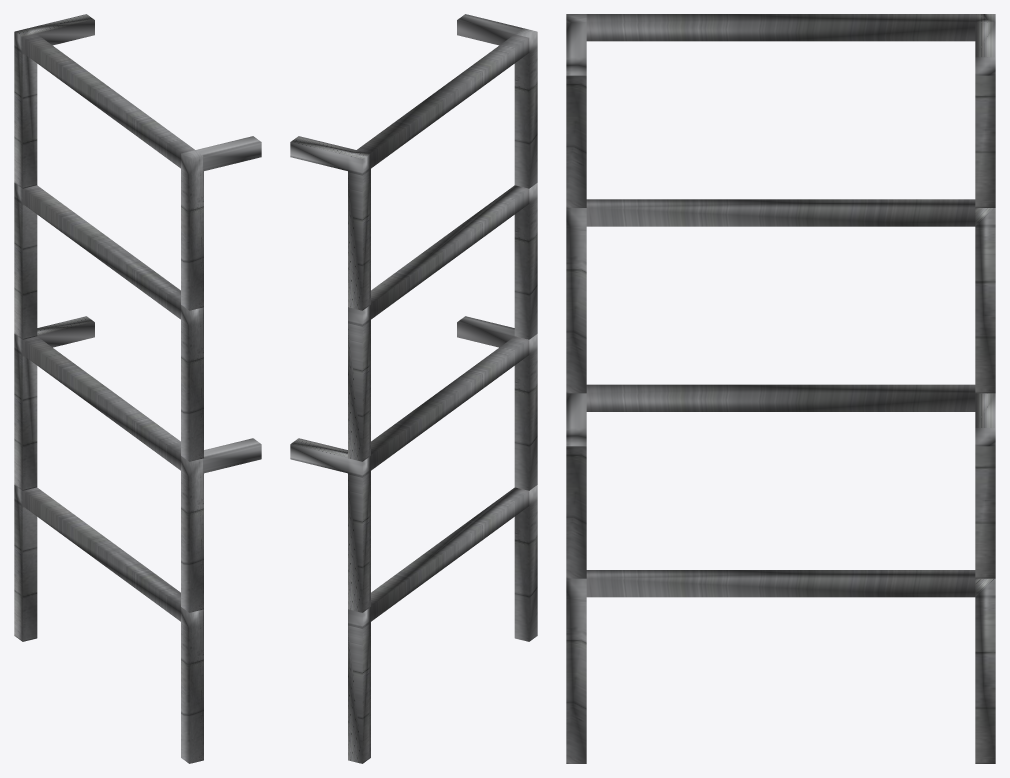
Rendered from Leader.fbx.
The picture shows the model from 3 angles, left to right: view 1: azimuth 30°, elevation 25°; view 2: azimuth 150°, elevation 25°; view 3: azimuth 270°, elevation 25°; orthographic projection. The views are drawn at different scales.
Visible parts, largest first — view 1: Cube.001; view 2: Cube.001; view 3: Cube.001.
Part boxes in pixels (bbox=[...]): Cube.001: bbox=[14, 14, 261, 763]; Cube.001: bbox=[290, 14, 537, 763]; Cube.001: bbox=[566, 14, 995, 763].
Size of the model in its own units: 12.5 by 100 by 52.5.
